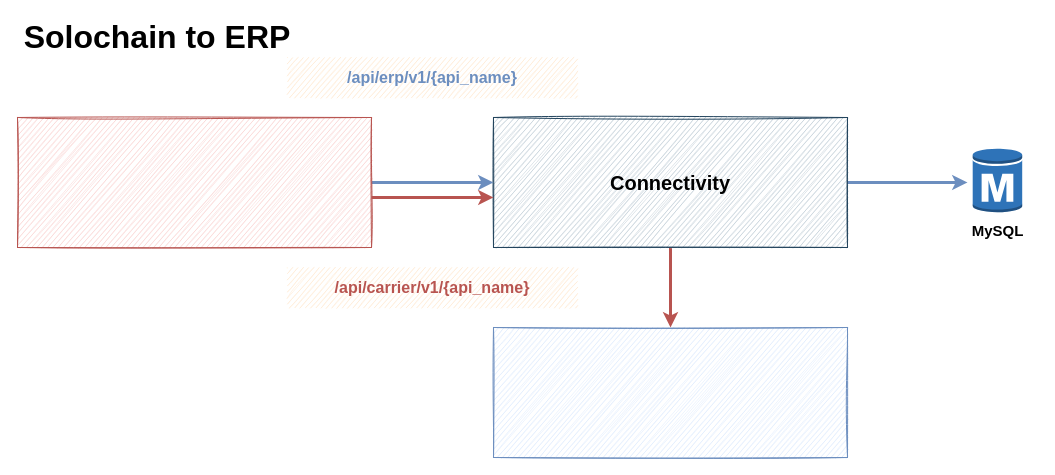
This 1055x475 diagram has some shape labels left out. Each missing label, with the centre of its shape:
"Carrier" belongs at point 670,392.
"Solochain" belongs at point 194,182.
